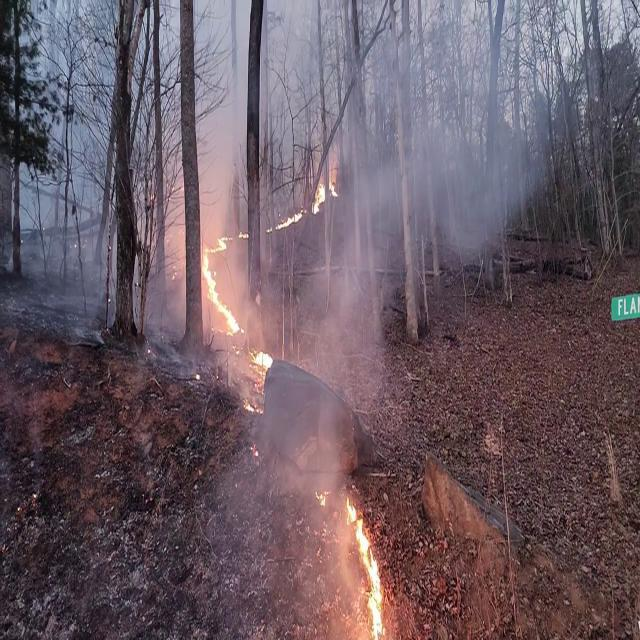Fire: (341, 491, 387, 639), (199, 228, 239, 336), (309, 172, 339, 215), (251, 345, 275, 375)
Smoke: (324, 7, 536, 281), (234, 274, 394, 558)
